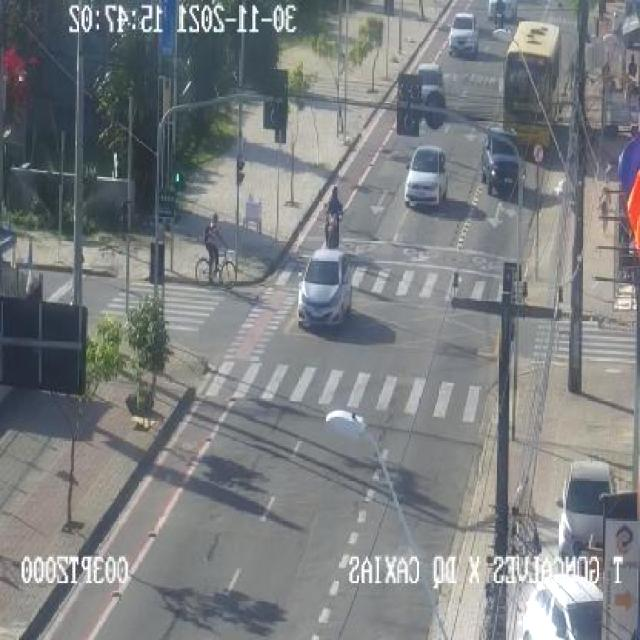Bus: (502, 19, 561, 146)
Car: (519, 575, 603, 639), (558, 463, 614, 556), (297, 247, 350, 327), (403, 146, 448, 208), (479, 129, 520, 197), (450, 11, 479, 56), (487, 0, 517, 24)
